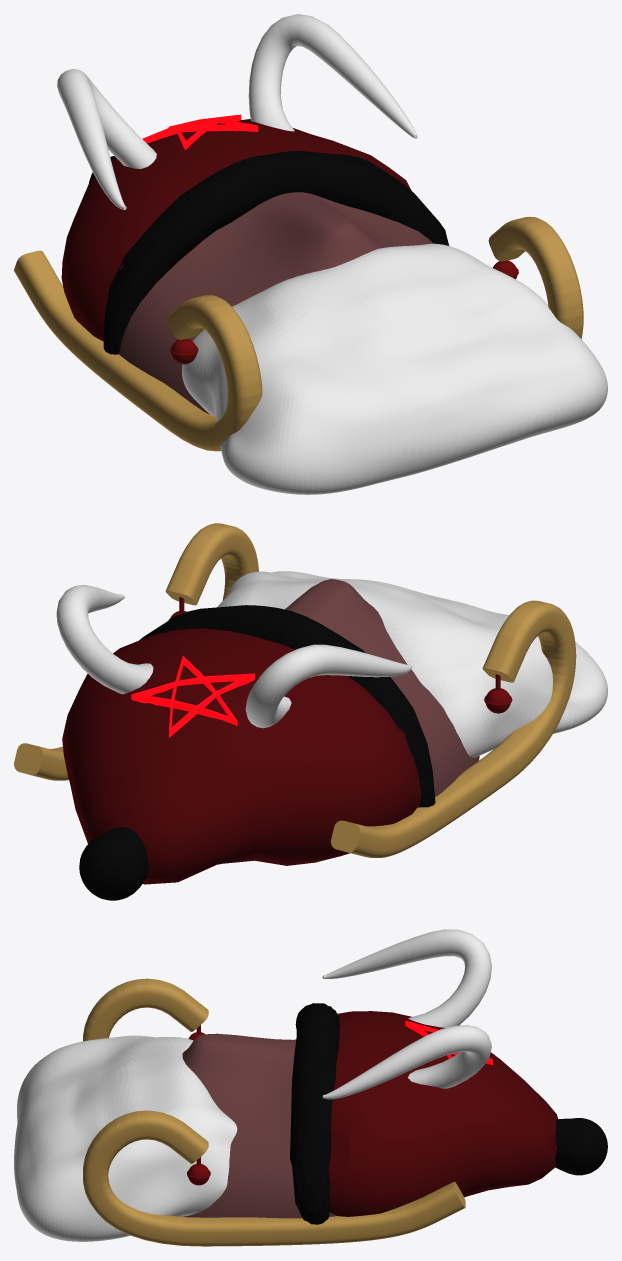
The model's file is evil_santa.fbx.
The picture shows the model from 3 angles, top to bottom: view 1: azimuth 30°, elevation 25°; view 2: azimuth 150°, elevation 25°; view 3: azimuth 270°, elevation 25°; orthographic projection. The views are drawn at different scales.
Parts seen in each view (by area): view 1: Beard.001, Head.001, Cube.002, Sphere.005, Sphere.006, BézierCurve.002, pentagram, Sphere.008; view 2: Sphere.006, Beard.001, Cube.002, BézierCurve.002, Head.001, Sphere.005, Sphere.007, pentagram, Sphere.008; view 3: Beard.001, Sphere.006, Cube.002, Head.001, BézierCurve.002, Sphere.005, Sphere.007, Sphere.008.
Boxes of the visible parts, x1,y1,x2,y2 form: Beard.001: [182, 243, 607, 494]; Head.001: [118, 192, 432, 414]; Cube.002: [14, 216, 583, 451]; Sphere.005: [103, 151, 448, 354]; Sphere.006: [61, 119, 411, 341]; BézierCurve.002: [57, 14, 417, 209]; pentagram: [142, 114, 258, 150]; Sphere.008: [170, 260, 518, 364]; Sphere.006: [62, 628, 421, 884]; Beard.001: [217, 571, 607, 757]; Cube.002: [14, 523, 576, 857]; BézierCurve.002: [56, 585, 412, 728]; Head.001: [285, 579, 479, 808]; Sphere.005: [139, 605, 435, 807]; Sphere.007: [79, 827, 148, 900]; pentagram: [131, 656, 254, 737]; Sphere.008: [168, 597, 512, 713]; Beard.001: [14, 1035, 237, 1241]; Sphere.006: [328, 1011, 557, 1216]; Cube.002: [83, 978, 465, 1246]; Head.001: [182, 1033, 336, 1218]; BézierCurve.002: [322, 929, 491, 1099]; Sphere.005: [290, 1003, 339, 1224]; Sphere.007: [555, 1118, 607, 1175]; Sphere.008: [187, 1025, 210, 1185].
Size of the model in its own units: 39.01 by 24.74 by 65.61.
